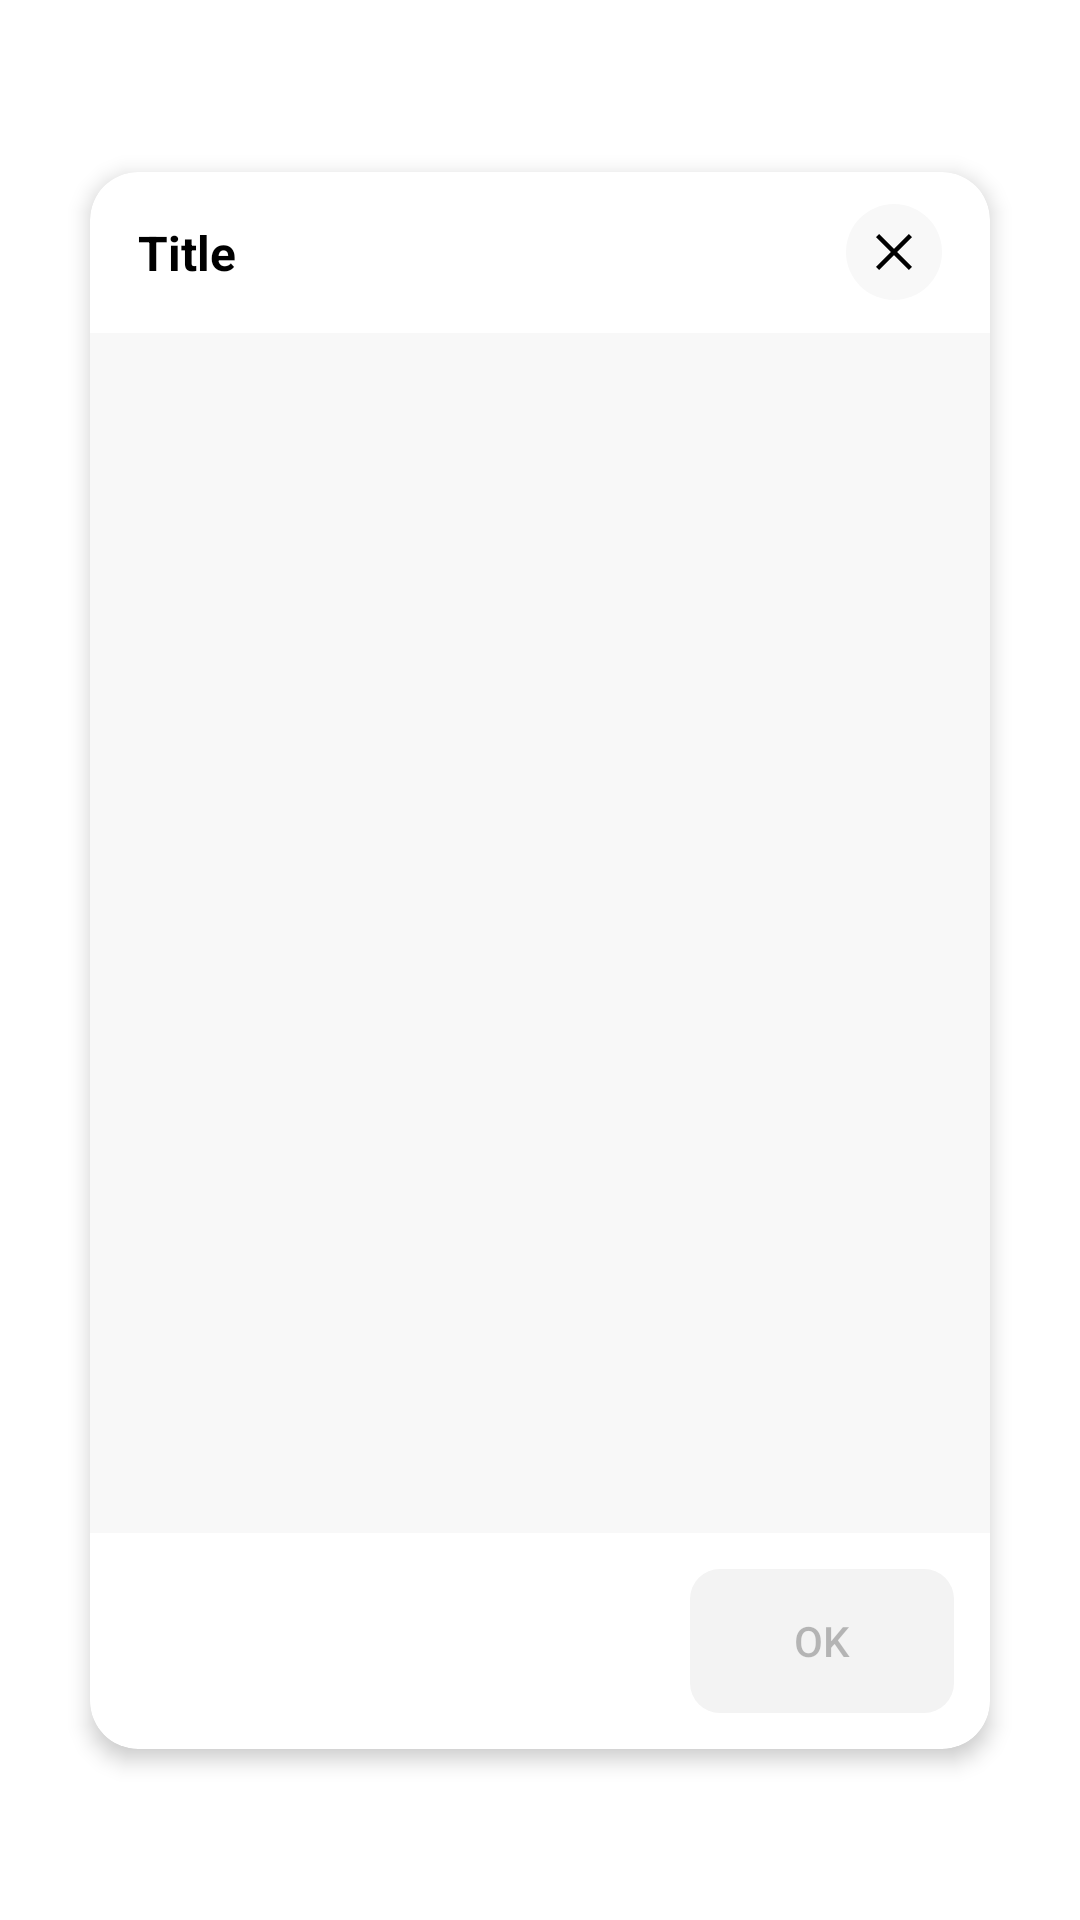

Where to tap for icons on this 1080×1920 app screen, as point (x, y):
close: point (894, 252)
